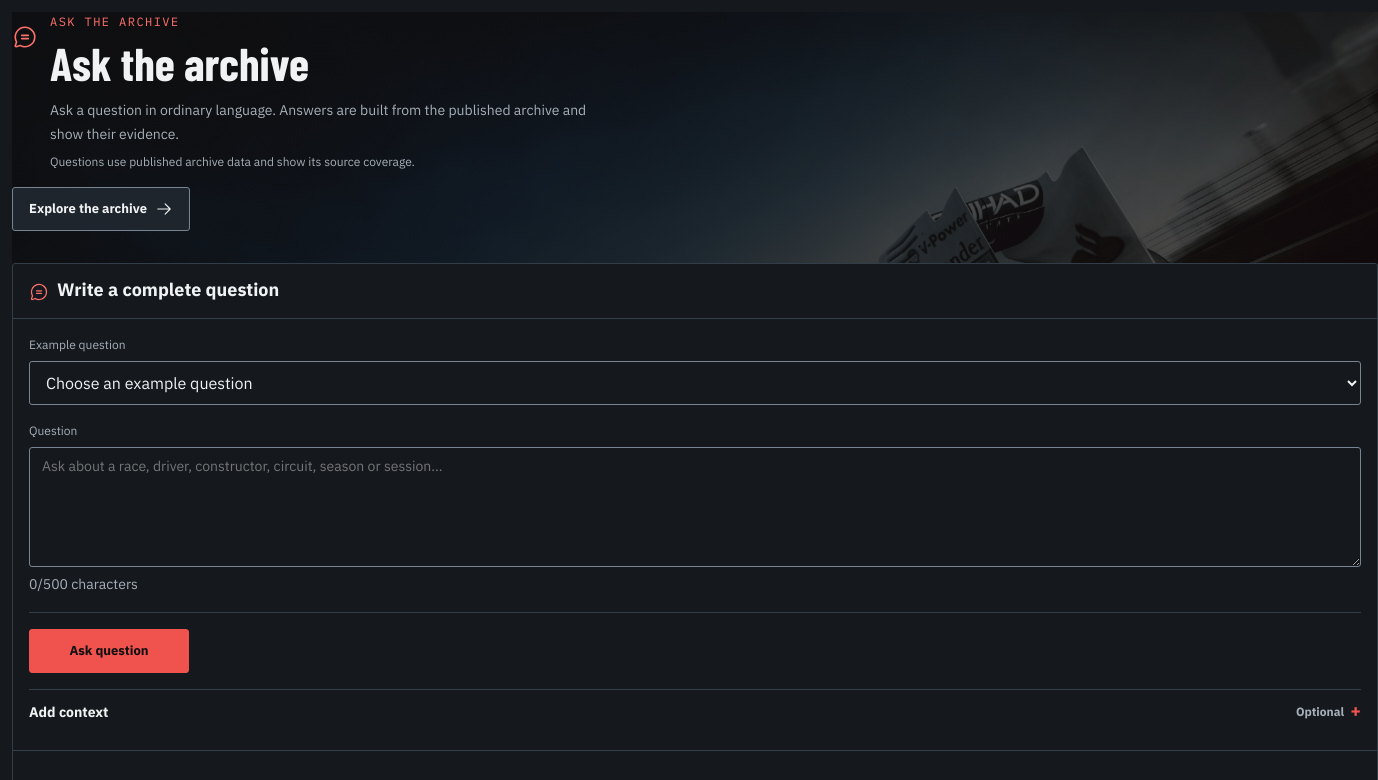
loading switches to a focused result view with a clear action
In the text box labelled "Question": (695, 507) [29,447,1361,567], type "Which driver has the most wins?"
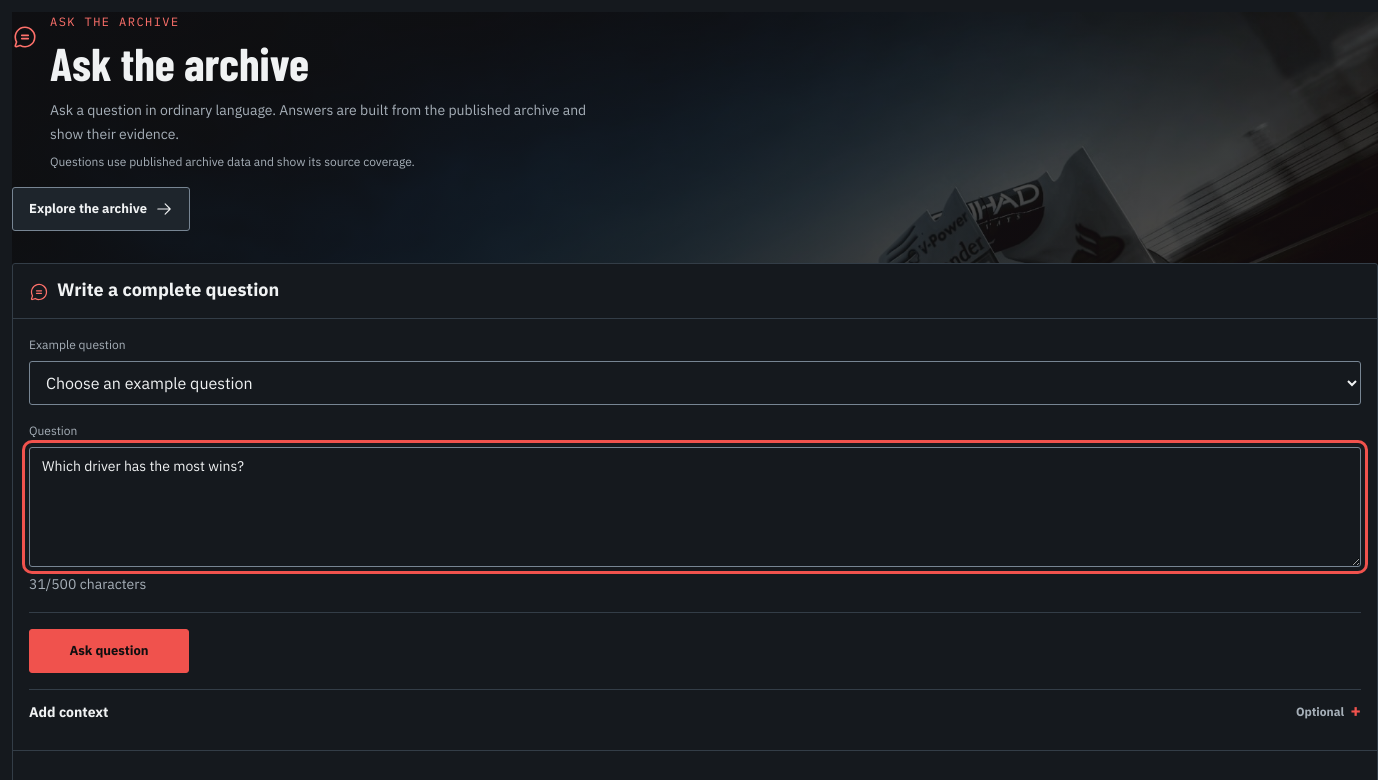
Click the button "Ask question": (109, 651) [29,629,189,673]
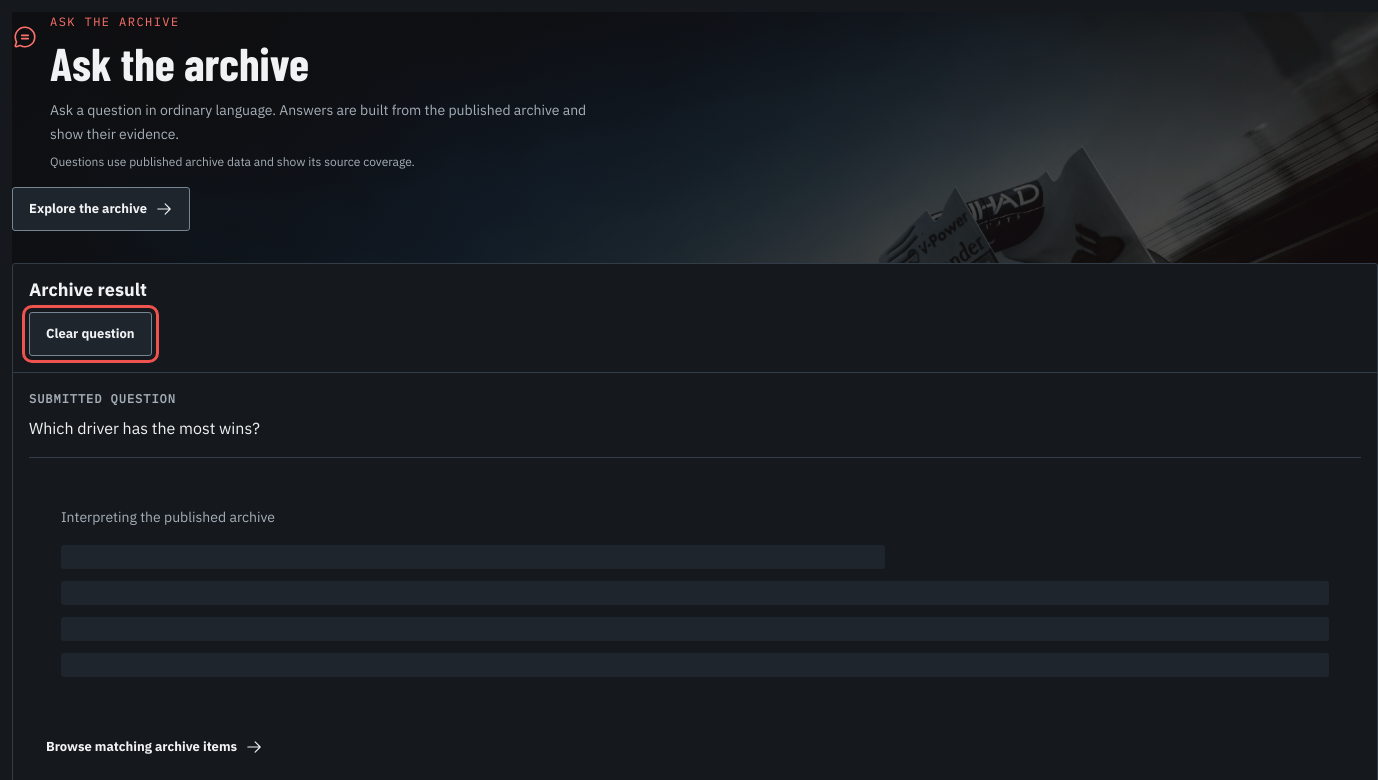
Expected: the heading "Archive result" is shown, [29,280,147,300]
Expected: the text "Interpreting the published archive" is shown, [61,506,275,529]
Press Enter
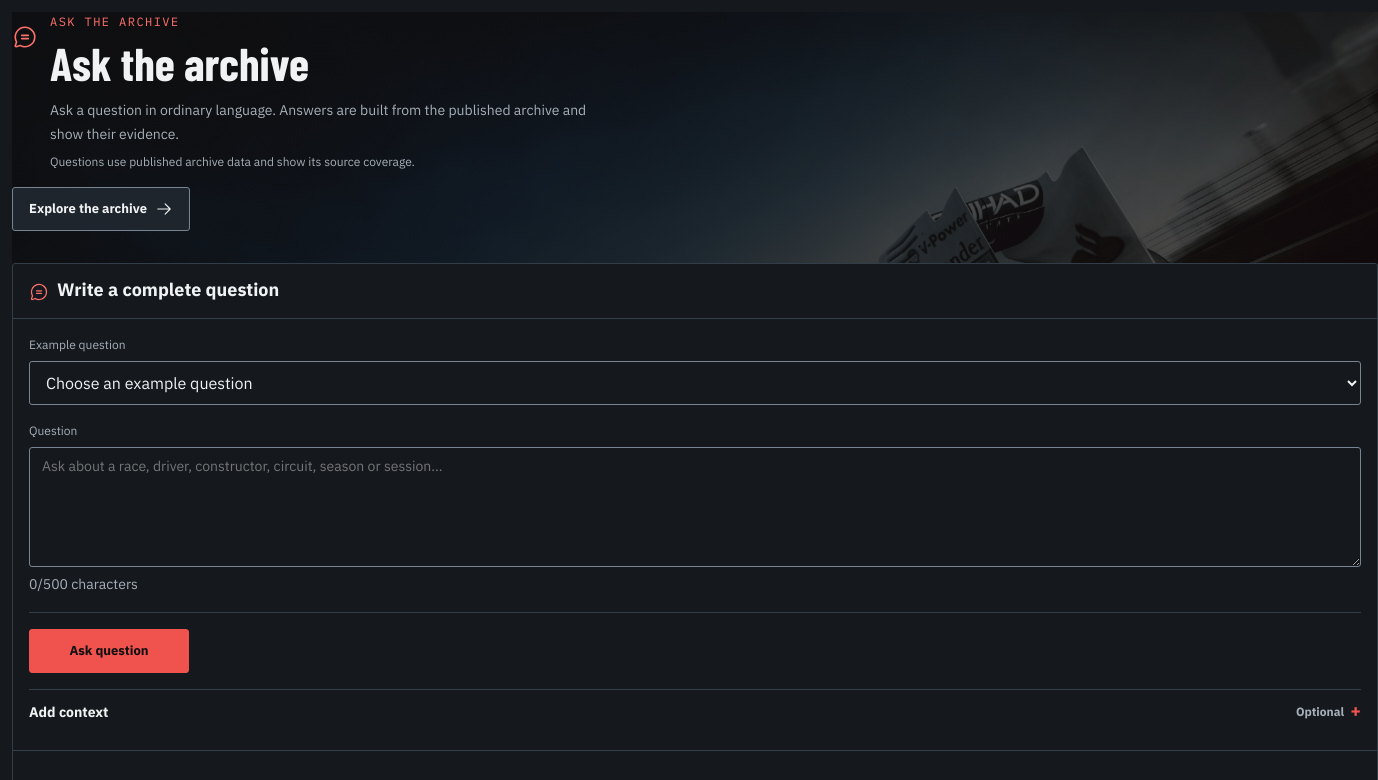
Expected: the text box labelled "Question" is shown, [29,447,1361,567]
